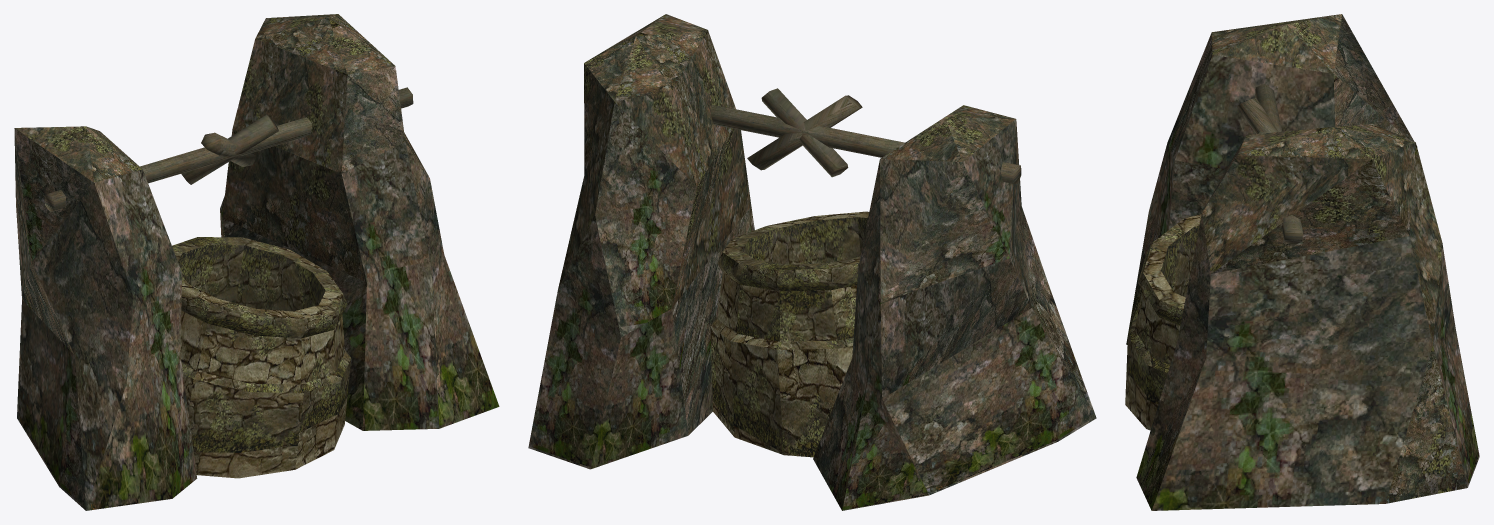
Rendered from Pool.glb.
The picture shows the model from 3 angles, left to right: view 1: azimuth 30°, elevation 25°; view 2: azimuth 150°, elevation 25°; view 3: azimuth 270°, elevation 25°; orthographic projection. The views are drawn at different scales.
Visible parts, largest first — view 1: Pool-col; view 2: Pool-col; view 3: Pool-col.
Part boxes in pixels (x1,y1,x2,y2): Pool-col: [14, 14, 499, 510]; Pool-col: [528, 14, 1096, 510]; Pool-col: [1125, 14, 1479, 510].
Bounding box in the file's own units: 2.13 × 1.68 × 1.56.
Materials: 6 (6 with a texture image).
